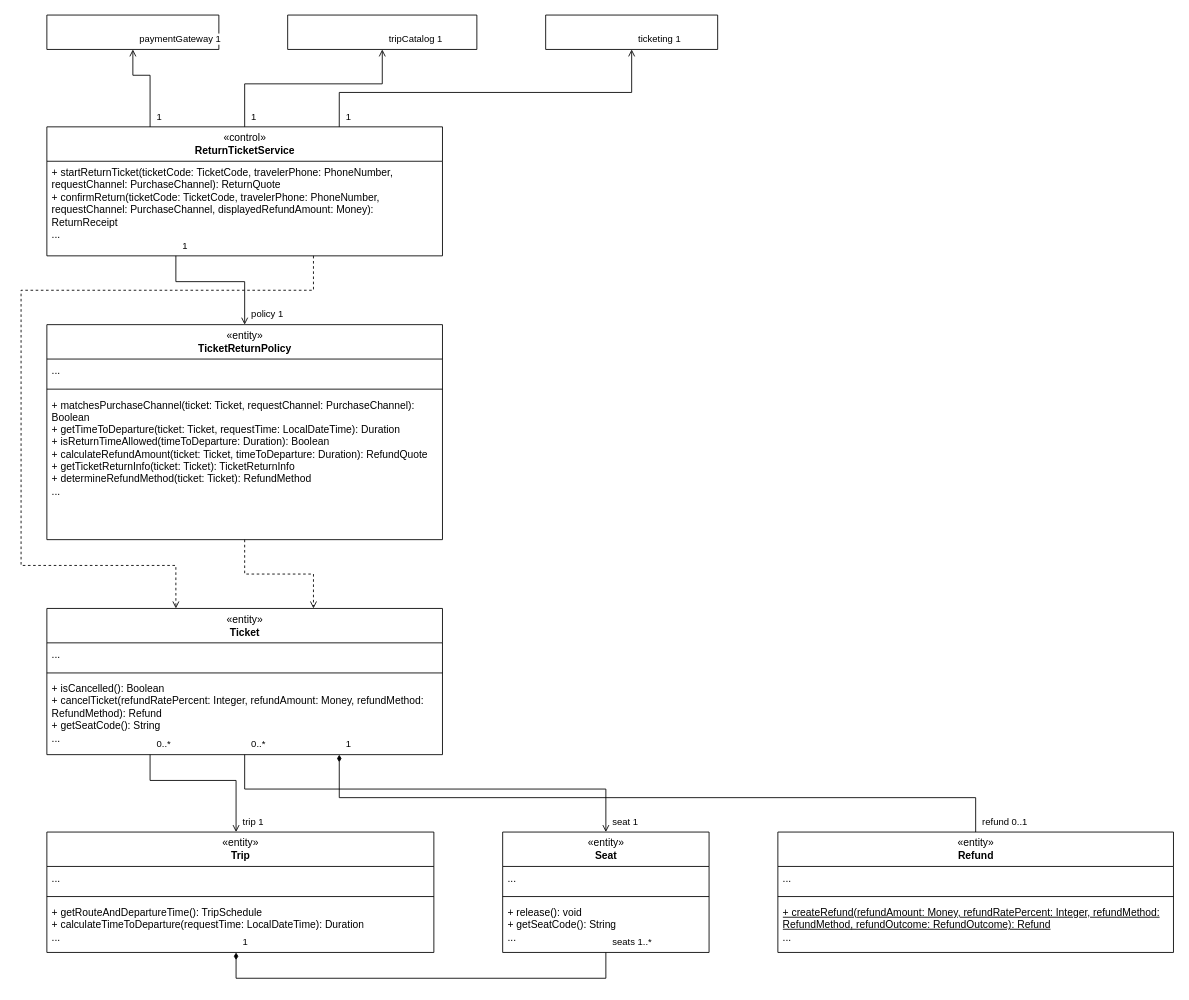
Some shapes in this 1189 by 1000 pixel diagram are drawn without their labels. Here are the shapes that lost their labels. From the top down, the centre of each, then its label:
the point at 132,31: «interface» IPaymentGateway
the point at 382,31: «interface» ITripCatalogRepository
the point at 631,31: «interface» ITicketingRepository
